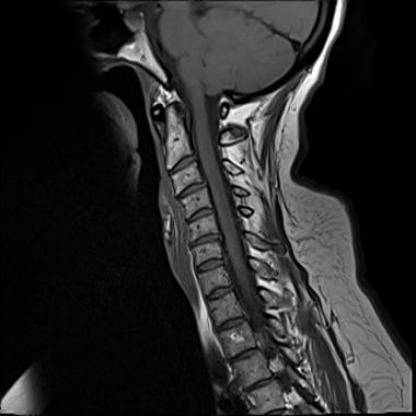Disc Bulgerotation: (193, 258, 228, 273), (185, 207, 216, 223), (190, 233, 223, 248), (174, 184, 209, 197)
Disc Protrusionrotation: (193, 258, 228, 273)
Osteophytesrotation: (185, 207, 215, 223), (190, 233, 223, 247), (174, 184, 209, 197)
